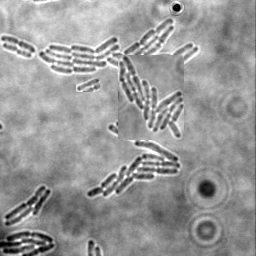Dividing: (1, 34, 37, 52), (3, 41, 33, 57)
Microcolony: (40, 18, 199, 89), (87, 120, 181, 197), (118, 55, 184, 140), (5, 184, 52, 226), (1, 230, 56, 255)
Rod: (76, 77, 100, 92)
